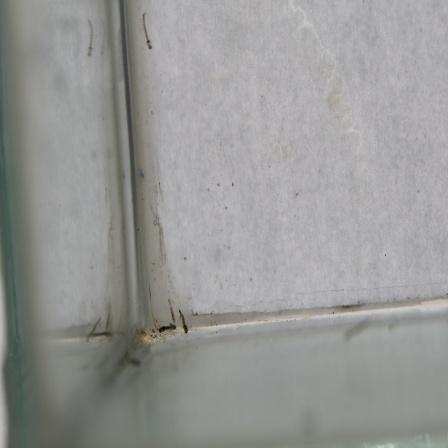Jentik-Nyamuk: (138, 9, 156, 52), (176, 305, 195, 336)
